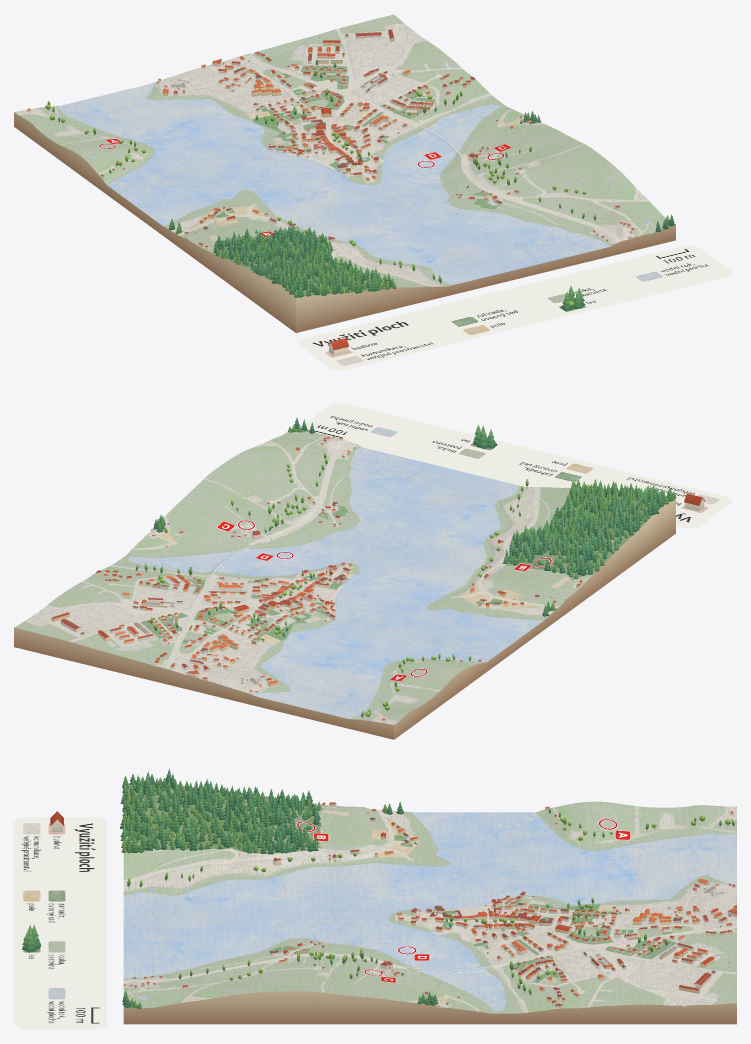
Rendered from Frymburk_sada1_RUIAN.glb.
The picture shows the model from 3 angles, top to bottom: view 1: azimuth 30°, elevation 25°; view 2: azimuth 150°, elevation 25°; view 3: azimuth 270°, elevation 25°; orthographic projection. The views are drawn at different scales.
Visible parts, largest first — view 1: DMR_RUIAN, legenda_panel, stromy_RUIAN, budovy_RUIAN, legenda_objekty; view 2: DMR_RUIAN, legenda_panel, stromy_RUIAN, budovy_RUIAN, legenda_objekty; view 3: DMR_RUIAN, legenda_panel, stromy_RUIAN, budovy_RUIAN, legenda_objekty.
Part boxes in pixels (<box>): DMR_RUIAN: <box>14,14,675,332</box>; legenda_panel: <box>298,245,731,370</box>; stromy_RUIAN: <box>45,59,674,297</box>; budovy_RUIAN: <box>27,29,633,255</box>; legenda_objekty: <box>328,285,585,355</box>; DMR_RUIAN: <box>14,427,675,739</box>; legenda_panel: <box>301,403,731,527</box>; stromy_RUIAN: <box>135,417,676,718</box>; budovy_RUIAN: <box>51,436,583,721</box>; legenda_objekty: <box>473,424,704,511</box>; DMR_RUIAN: <box>123,783,736,1024</box>; legenda_panel: <box>14,817,106,1029</box>; stromy_RUIAN: <box>120,768,734,1008</box>; budovy_RUIAN: <box>123,802,736,1007</box>; legenda_objekty: <box>22,811,63,952</box>.
Size of the model in its own units: 1490 by 179 by 2140.
12 materials, 6 textured.
